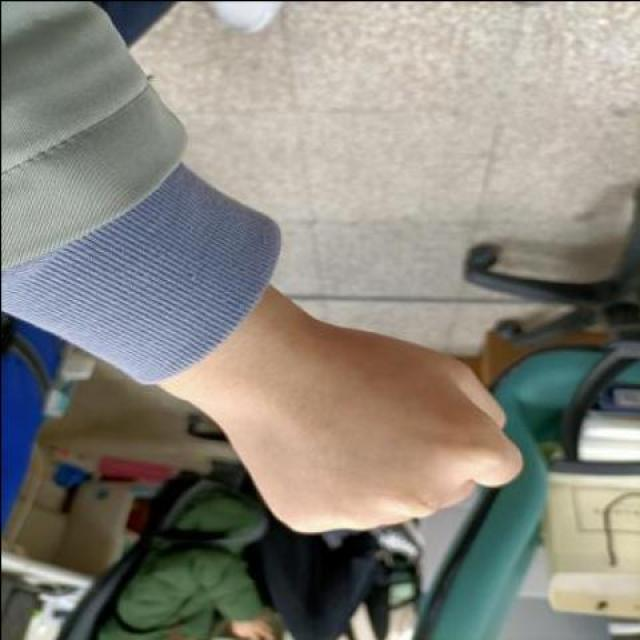fist: (195, 318, 556, 538)
